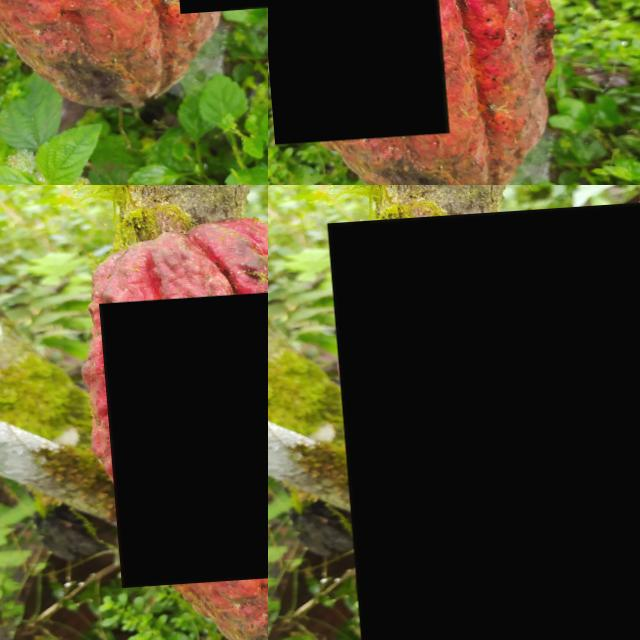Monilia: (268, 0, 441, 147)
Sana: (326, 207, 640, 640), (96, 293, 268, 590)
